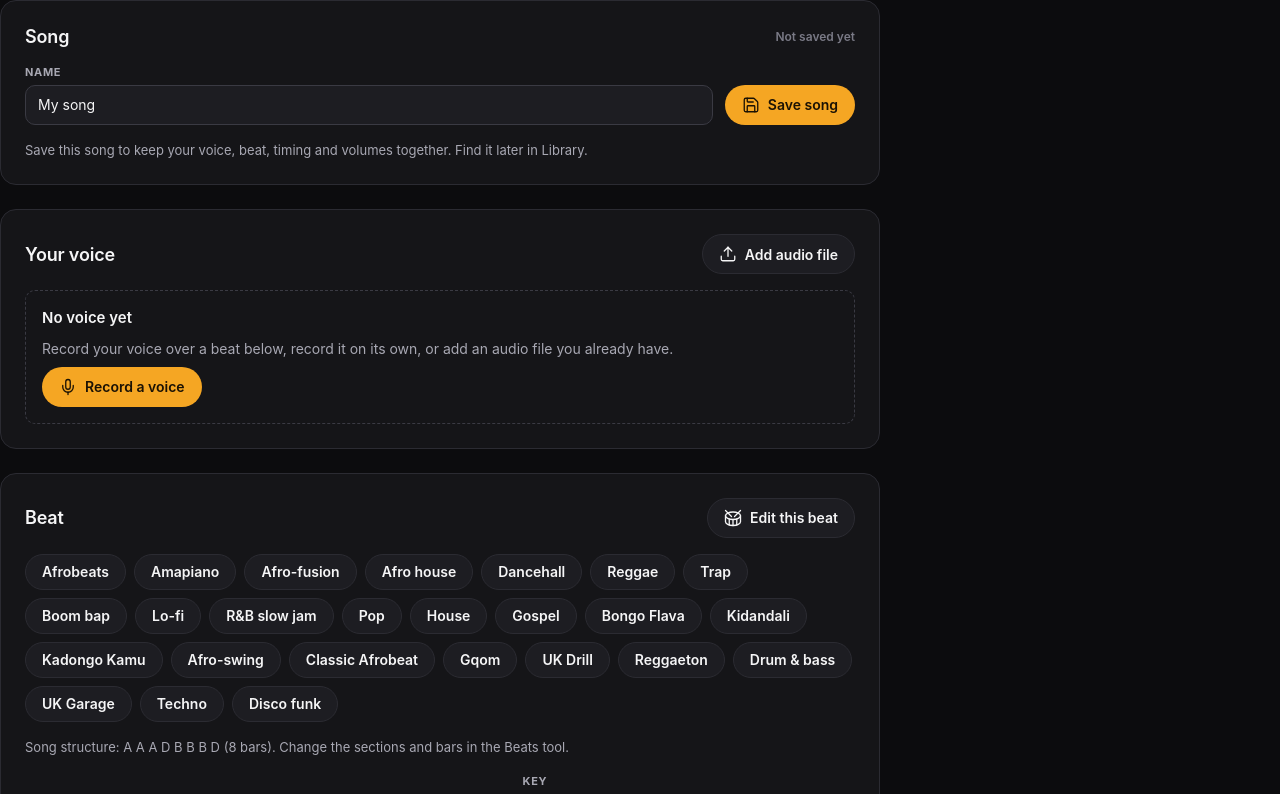
Test: Studio songs › a new session starts unsaved, and Save song makes a song in Library
Check: the text "Not saved yet" is shown, box 775,28 -> 855,46
Replace the text in the field labelled "Name" with "Kampala nights". click: (369, 105)
box: 25,85 -> 713,125
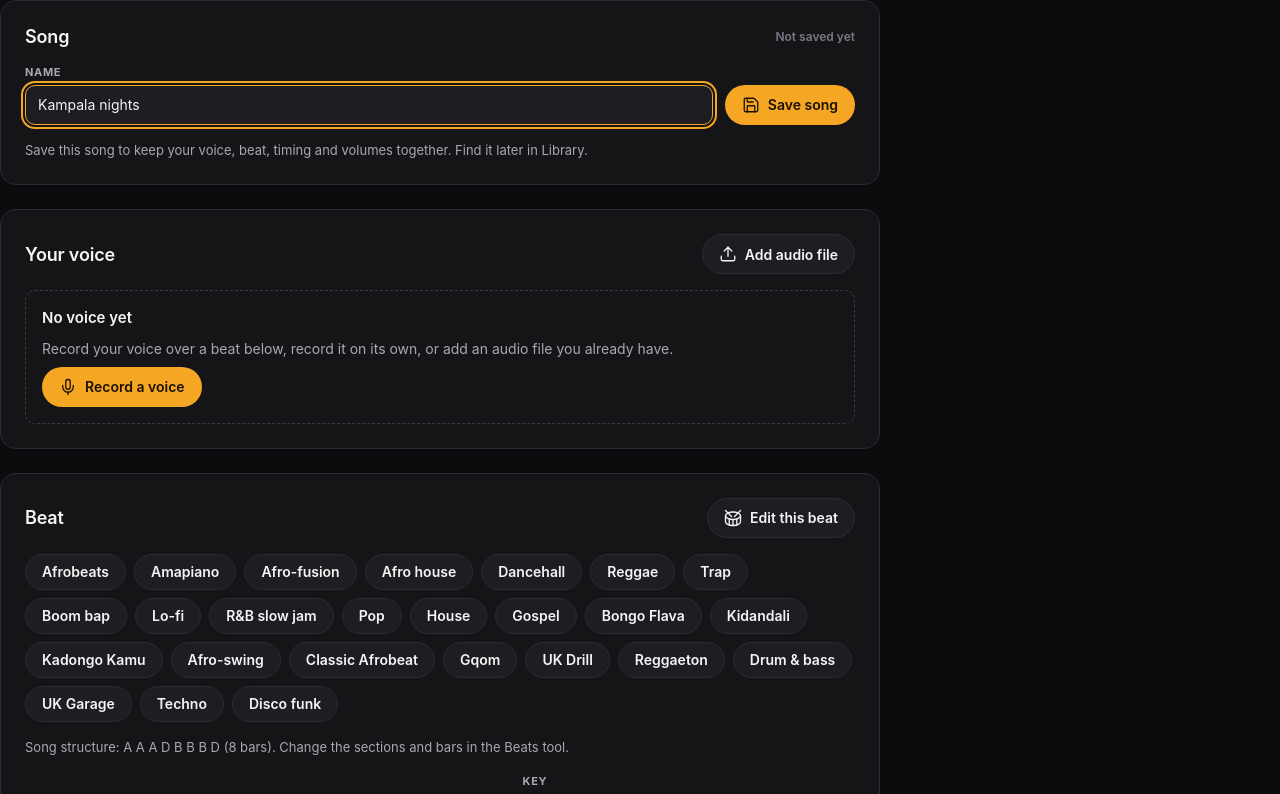
Click the button "Save song". click: (790, 105)
box: 725,85 -> 855,125
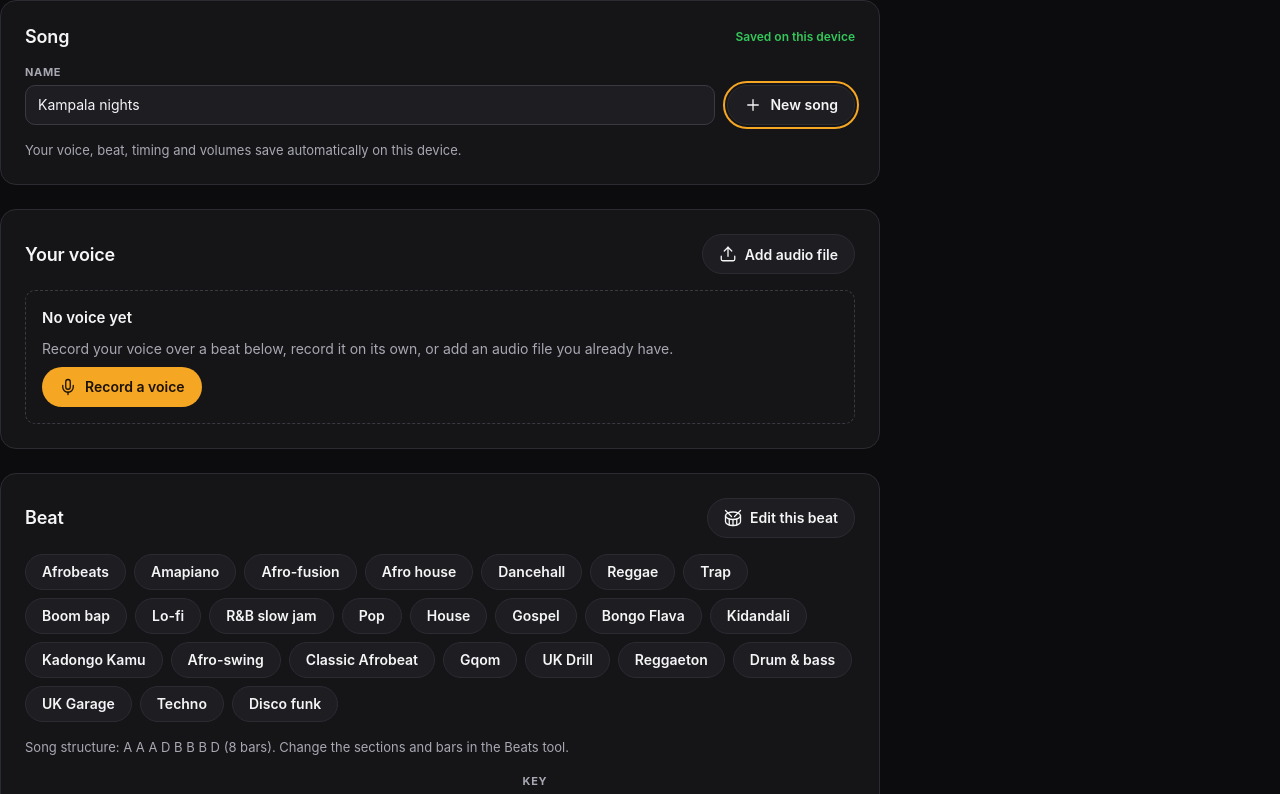
Check: the text "Saved on this device" is shown, box 735,28 -> 855,46
Check: the button "New song" is shown, box 728,85 -> 855,125
